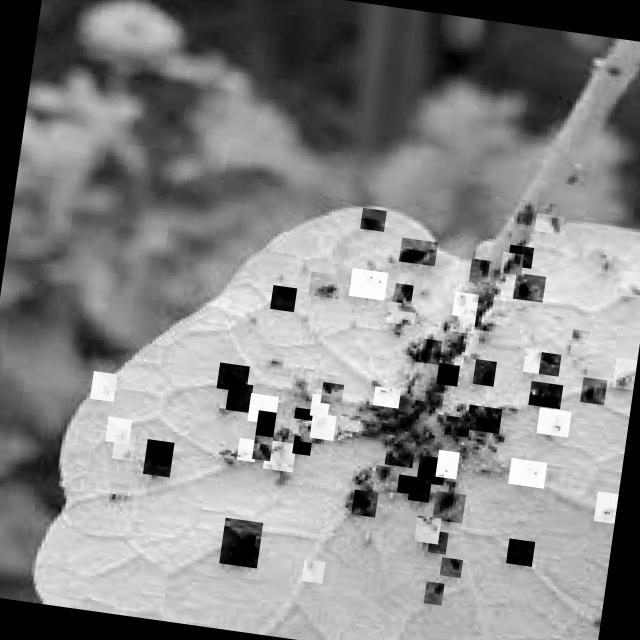aphid: (219, 518, 263, 568), (348, 268, 388, 301), (142, 440, 174, 478), (508, 458, 546, 489), (432, 491, 466, 524), (398, 238, 438, 266), (262, 440, 296, 472), (536, 408, 572, 438), (247, 393, 279, 425), (512, 273, 546, 303), (467, 405, 502, 434), (216, 362, 249, 392), (528, 381, 563, 409), (308, 272, 342, 300), (384, 439, 416, 468), (416, 456, 446, 486), (424, 380, 452, 412), (89, 371, 117, 402), (225, 382, 253, 413), (486, 422, 518, 448), (612, 358, 638, 390), (506, 538, 535, 566), (373, 466, 402, 494), (594, 491, 618, 524), (414, 516, 442, 544), (105, 416, 132, 444), (309, 413, 336, 441), (351, 490, 378, 518), (580, 378, 607, 406), (414, 338, 442, 365), (435, 450, 460, 480), (386, 302, 417, 326), (270, 285, 297, 312), (534, 213, 566, 235), (452, 292, 479, 318), (472, 359, 497, 387), (523, 348, 548, 375), (469, 258, 493, 286), (255, 410, 277, 440), (360, 208, 387, 232), (258, 346, 285, 370), (507, 245, 534, 269), (449, 310, 476, 334), (373, 386, 401, 408), (302, 559, 326, 584), (538, 352, 562, 377), (568, 329, 590, 356), (619, 270, 640, 298), (320, 382, 344, 406), (500, 252, 524, 276), (436, 363, 460, 387), (300, 422, 326, 444), (444, 416, 470, 438), (423, 326, 446, 350), (392, 284, 413, 310), (252, 436, 273, 462), (112, 439, 135, 462), (408, 481, 431, 503), (236, 438, 257, 462), (108, 482, 130, 504), (397, 474, 419, 496), (440, 557, 463, 578), (310, 394, 330, 418), (424, 582, 444, 606), (428, 530, 448, 554), (289, 418, 312, 438), (294, 408, 316, 427), (339, 414, 361, 433), (292, 436, 312, 456), (338, 425, 353, 443)
